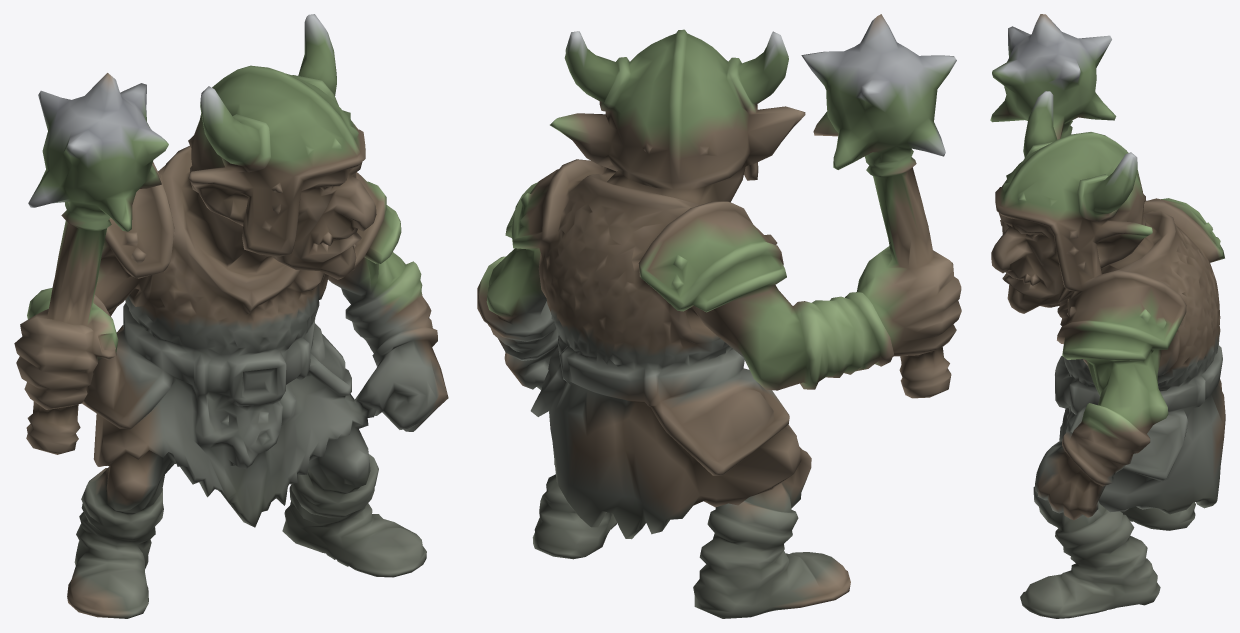
File: club.glb
3 views of the same model, side by side, from view 1: azimuth 30°, elevation 25°; view 2: azimuth 150°, elevation 25°; view 3: azimuth 270°, elevation 25° (orthographic). The views are drawn at different scales.
Parts seen in each view (by area): view 1: world; view 2: world; view 3: world.
Boxes of the visible parts, bbox=[...] form: world: bbox=[14, 14, 448, 618]; world: bbox=[477, 14, 961, 618]; world: bbox=[990, 14, 1225, 618].
Size of the model in its own units: 1.26 by 1.55 by 0.7009.
